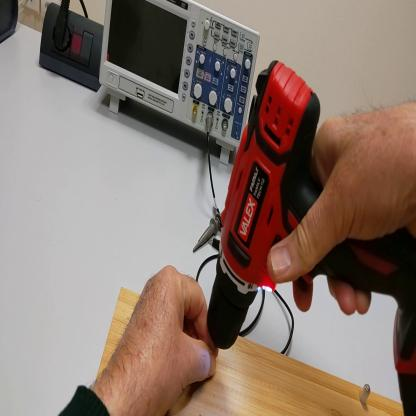electric screwdriver: (207, 61, 416, 373)
electric screwdriver battery: (399, 374, 416, 413)
hand: (270, 110, 414, 320), (105, 263, 220, 416)
oscilloscope: (102, 2, 262, 168)
socket: (40, 2, 105, 98), (1, 1, 20, 44)
working area: (97, 288, 405, 416)
